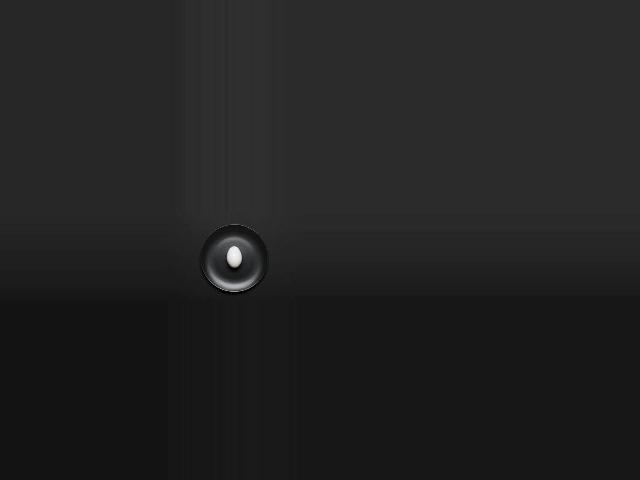egg: (227, 246, 242, 268)
